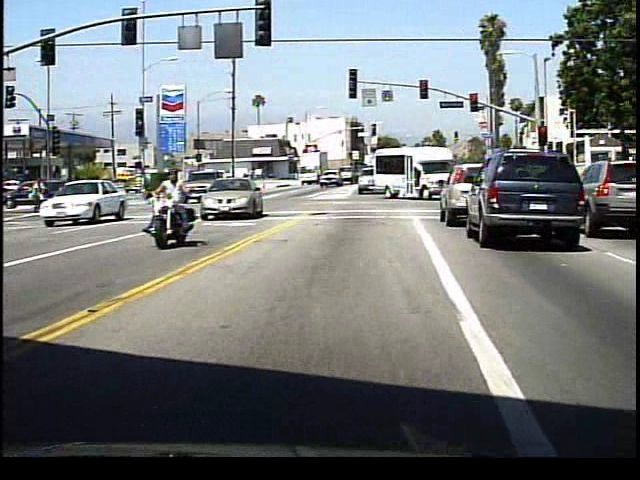person: (154, 166, 203, 247)
